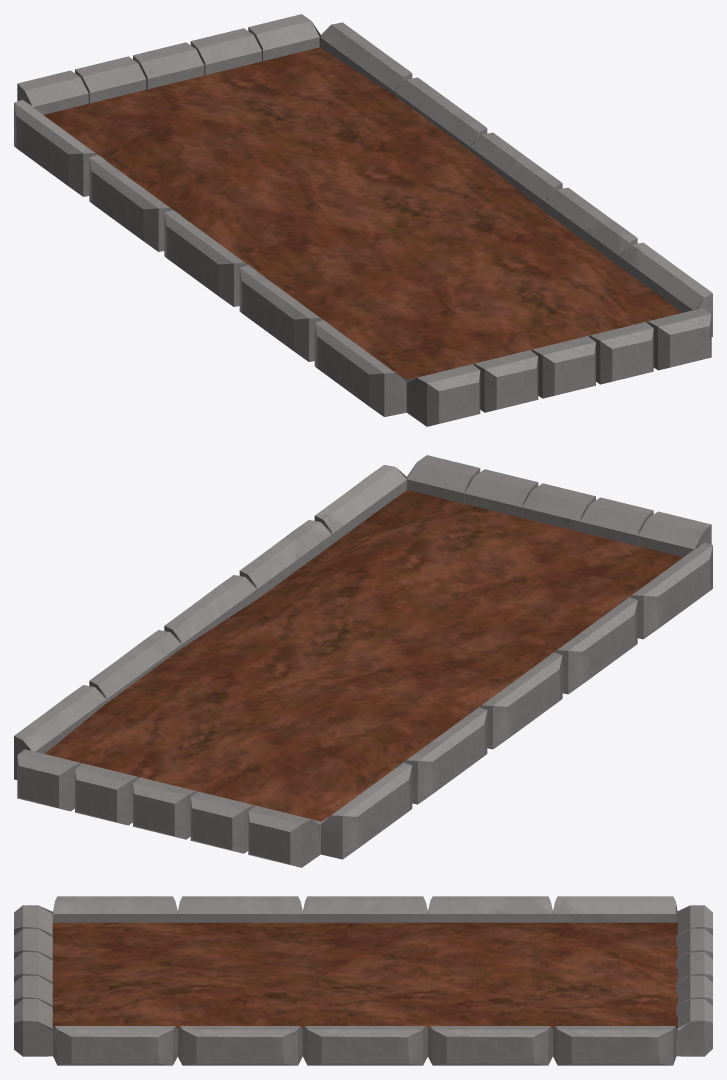
Rendered from Dirtplot.fbx.
3 views of the same model, one above another, from view 1: azimuth 30°, elevation 25°; view 2: azimuth 150°, elevation 25°; view 3: azimuth 270°, elevation 25° (orthographic). The views are drawn at different scales.
Visible parts, largest first — view 1: treeplot; view 2: treeplot; view 3: treeplot.
Boxes of the visible parts, x1,y1,x2,y2 form: treeplot: (14,14,712,426); treeplot: (14,455,712,867); treeplot: (14,896,712,1065).
Size of the model in its own units: 1.18 by 0.1442 by 2.52.
